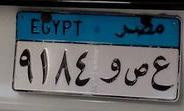1: (39, 47, 50, 86)
4: (73, 48, 92, 89)
8: (54, 50, 72, 90)
9: (17, 46, 35, 86)
ain: (150, 54, 174, 95)
saad: (123, 60, 149, 90)
waw: (98, 52, 121, 87)
